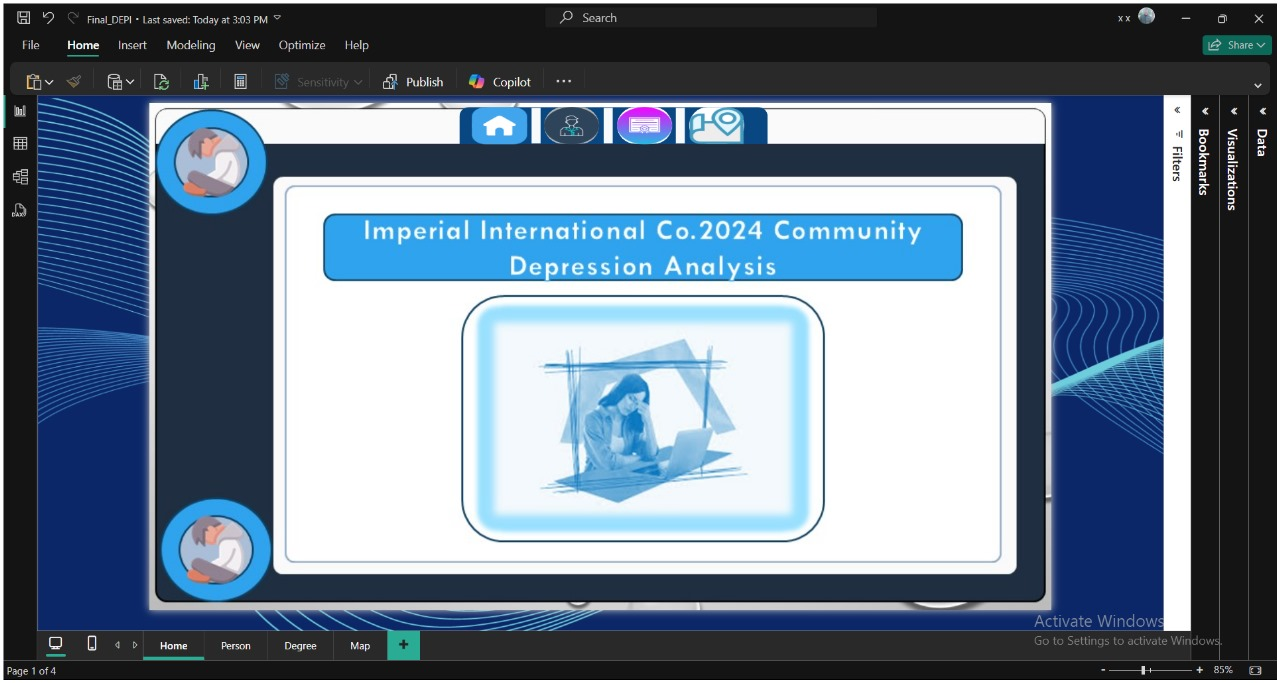

This screenshot's page, from the dashboard's own definition file:
{"tool":"powerbi","page":{"name":"Home","canvas":[1280,720],"ordinal":0},"visuals":[{"type":"shape","box":[440,6.2,437.5,52.5],"z":0},{"type":"shape","box":[542.5,7.5,12.5,50],"z":1},{"type":"actionButton","box":[663.8,6.2,78.8,52.5],"z":2},{"type":"actionButton","box":[457.5,6.2,78.8,52.5],"z":3},{"type":"actionButton","box":[766.2,5.9,78.8,52.5],"z":4},{"type":"actionButton","box":[560,6.2,78.8,52.5],"z":5},{"type":"shape","box":[645,7.5,12.5,50],"z":6},{"type":"shape","box":[747.5,7.5,12.5,50],"z":7}]}

Visuals, with their boxes on the page's 1280x720 design canvas (x1, y1, x2, y2). These are canvas units, not pixel positions in the 1280x683 screenshot, which may show the page scaled, cropped or inside an application window:
shape: (x1=440, y1=6, x2=878, y2=59)
shape: (x1=542, y1=8, x2=555, y2=58)
actionButton: (x1=664, y1=6, x2=743, y2=59)
actionButton: (x1=458, y1=6, x2=536, y2=59)
actionButton: (x1=766, y1=6, x2=845, y2=58)
actionButton: (x1=560, y1=6, x2=639, y2=59)
shape: (x1=645, y1=8, x2=658, y2=58)
shape: (x1=748, y1=8, x2=760, y2=58)
